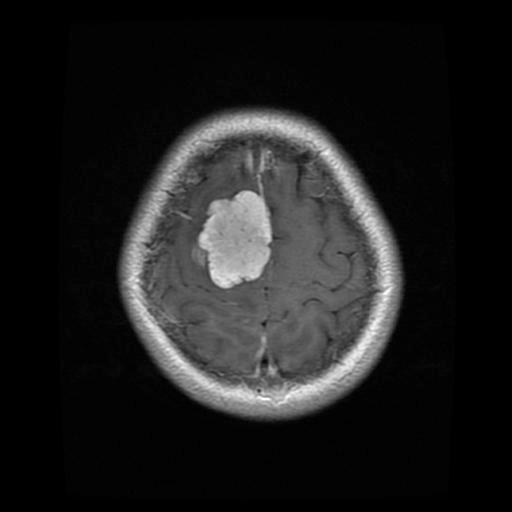Tumour-Meningioma: (187, 187, 288, 311)
